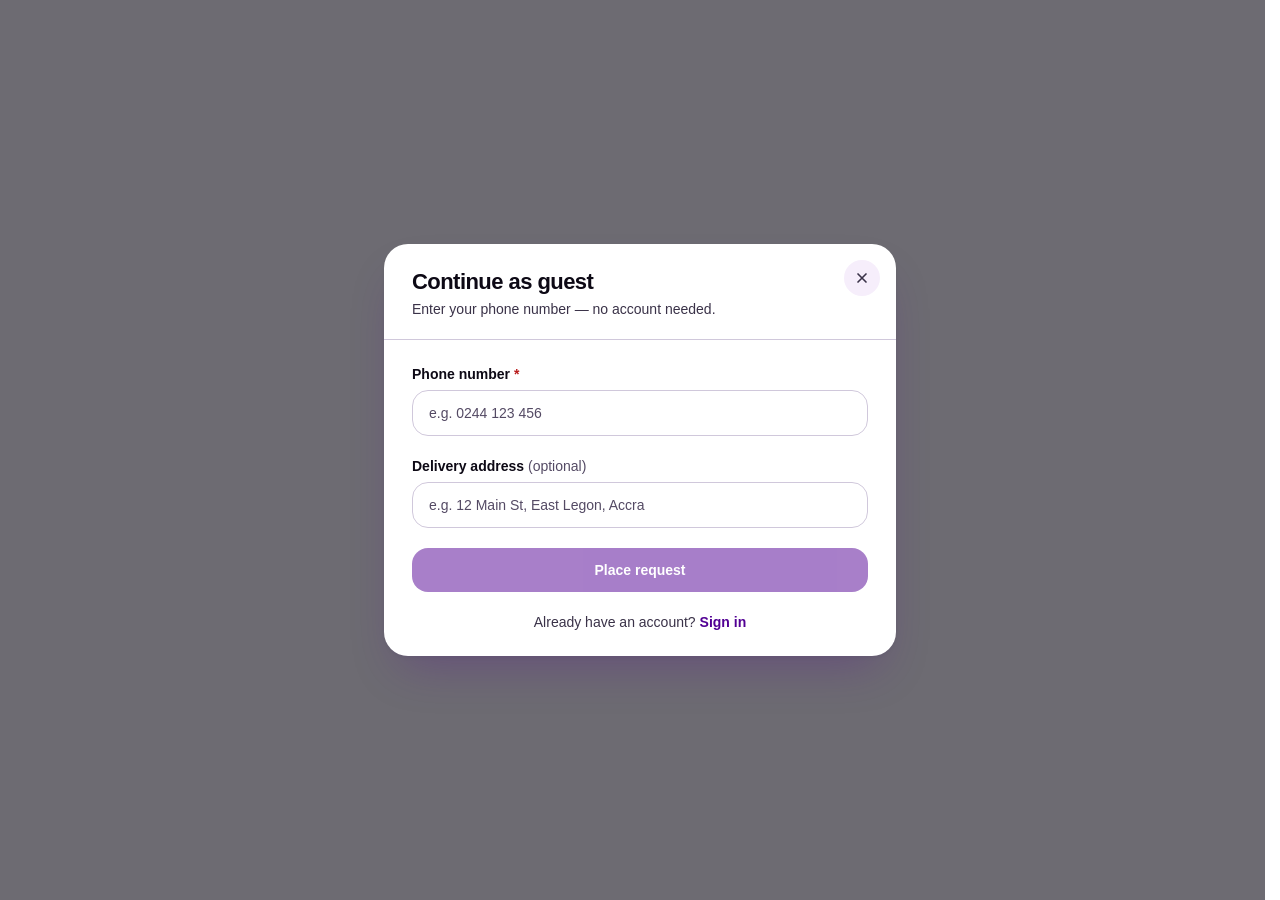
it: GuestCheckoutForm › placing the request › shows the server message and keeps the form so the customer can fix the number
The width and height of the screenshot is (1280, 900).
Type "12" into the field with id "guest-phone" at (640, 413), box x1=412 y1=390 x2=868 y2=436
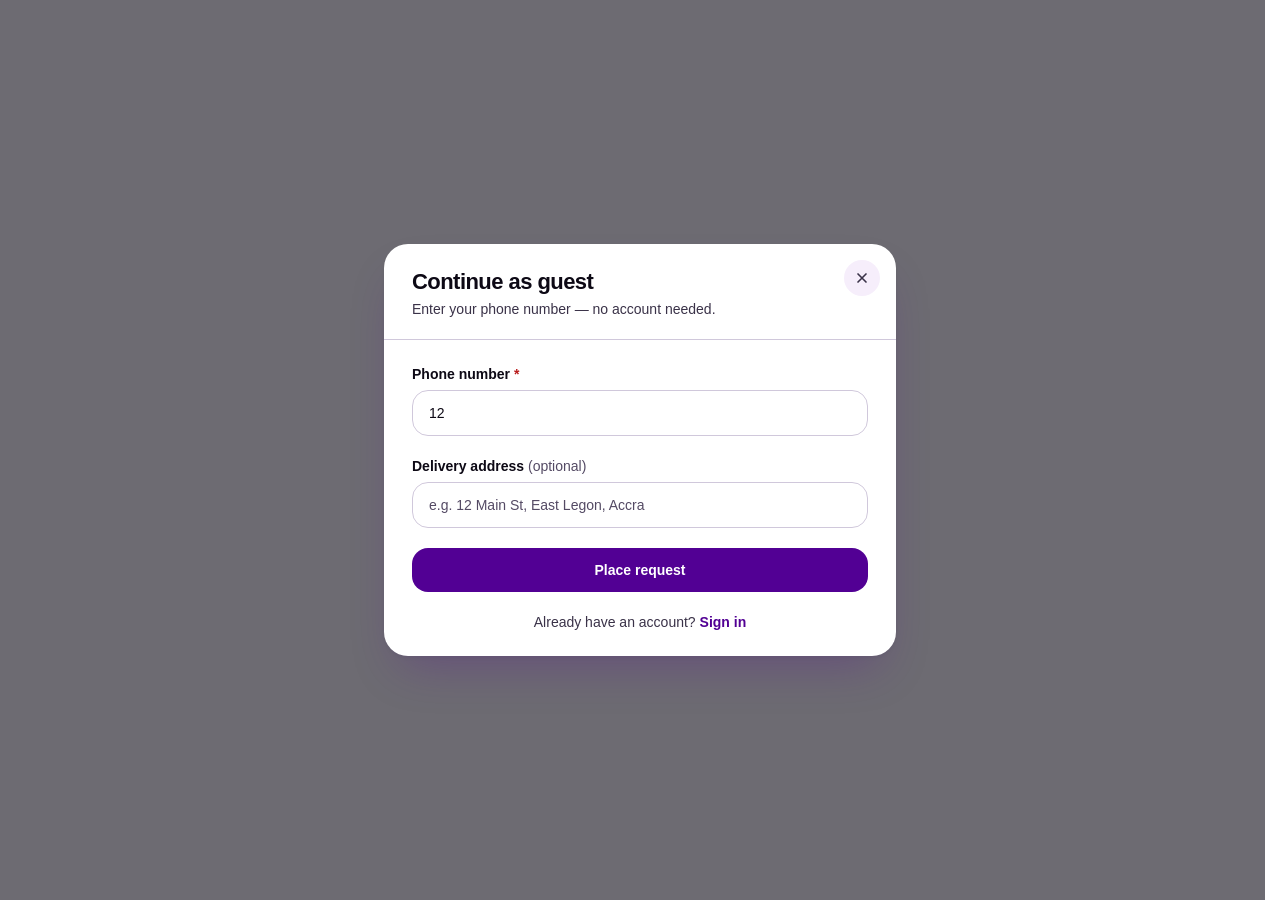
Submit the form, box x1=384 y1=340 x2=896 y2=656
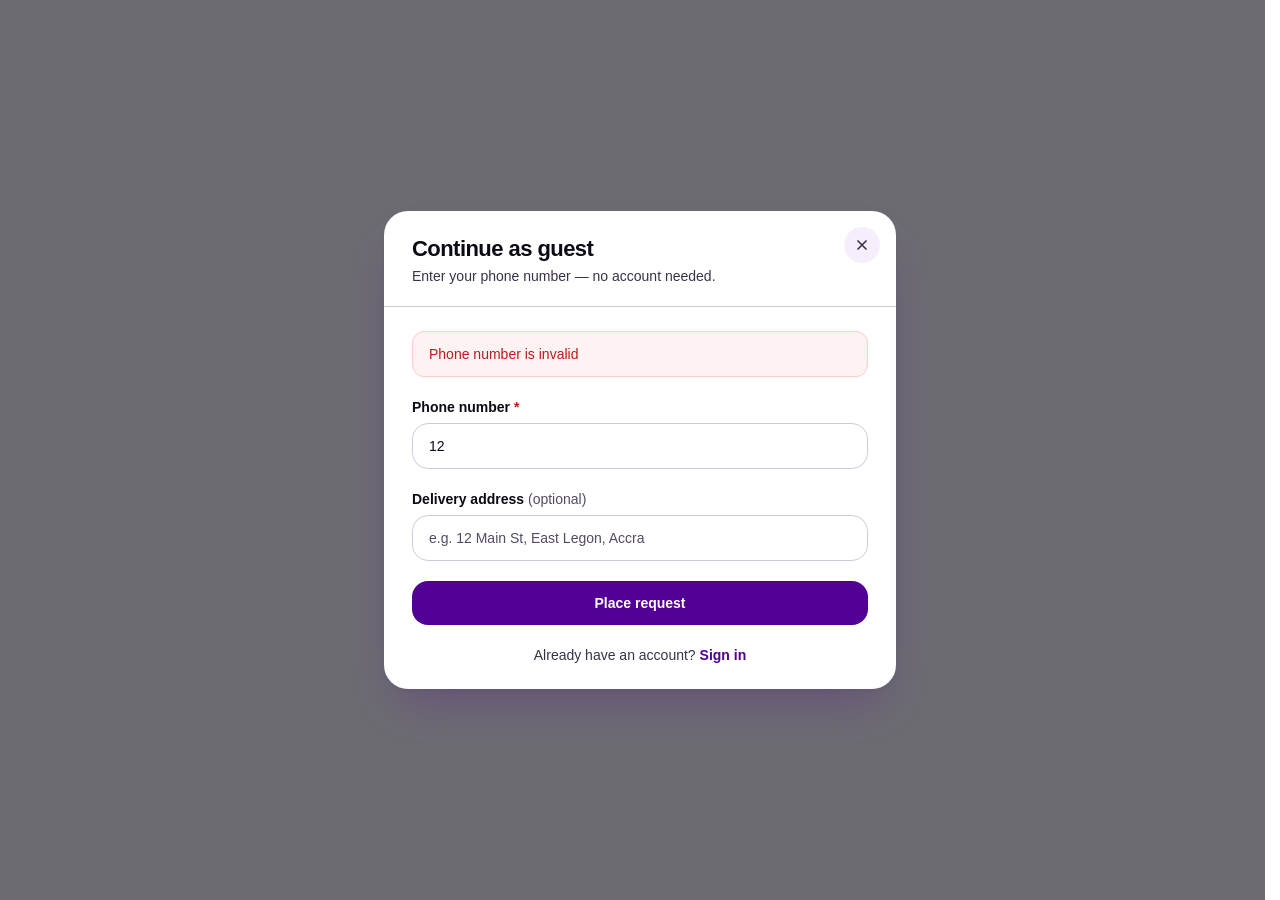
Expected: the form is shown, x1=384 y1=307 x2=896 y2=689
Now the text "Phone number is invalid" is shown, box x1=412 y1=331 x2=868 y2=377
